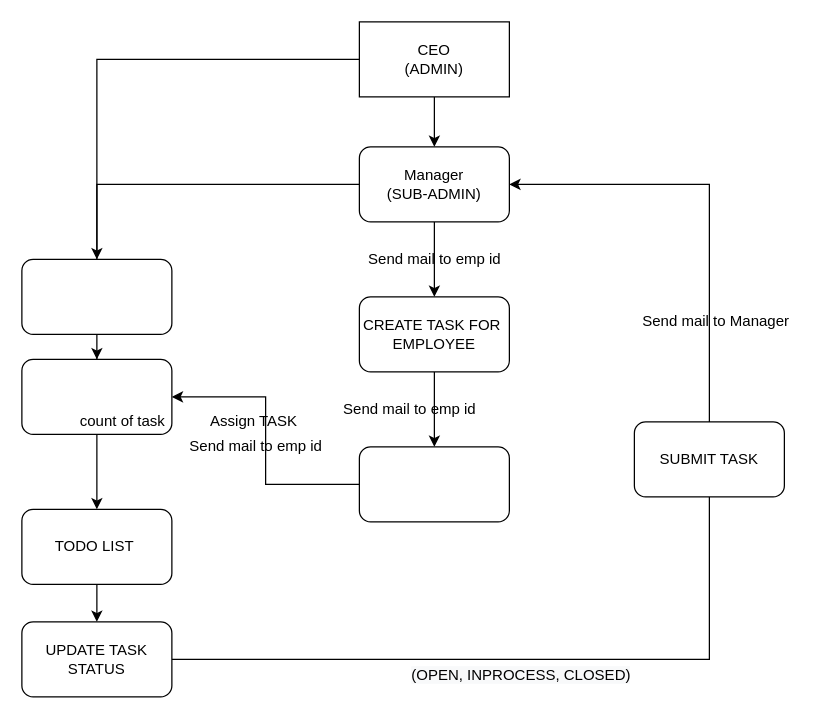
Image size: 819x719. Some labels were removed from this diagram. Each missing label, with the box of its shape:
CREATE EMPLOYEE: (21, 258, 172, 334)
EMPLOYEE: (21, 358, 172, 434)
TASK: (358, 446, 509, 522)
